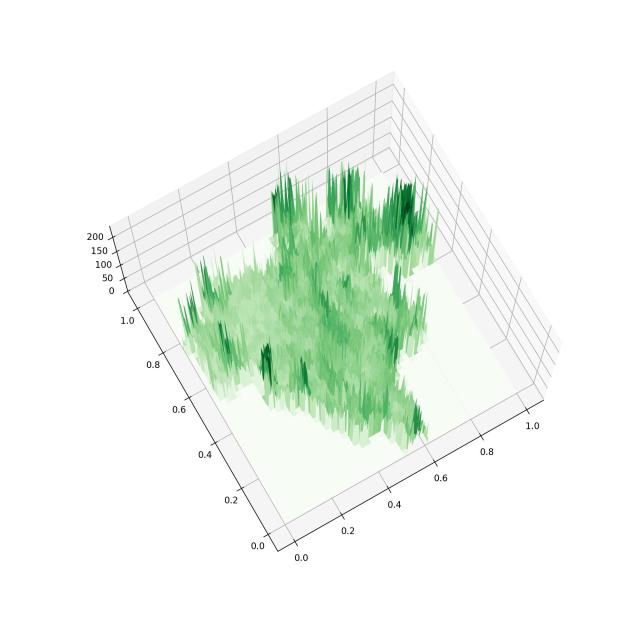fir: (72, 39, 598, 570)
